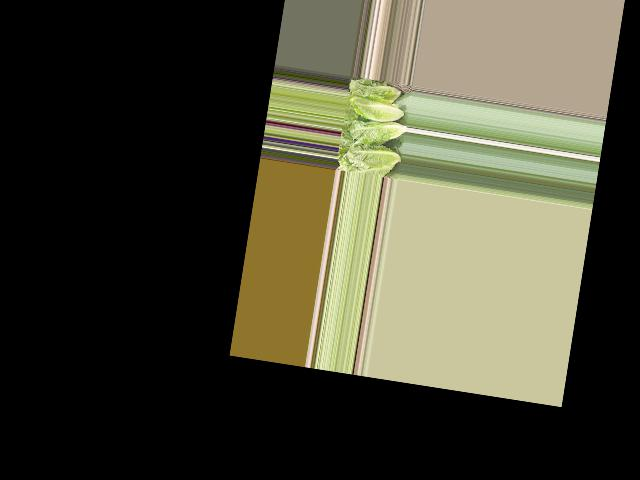lettuce: (347, 80, 399, 102)
